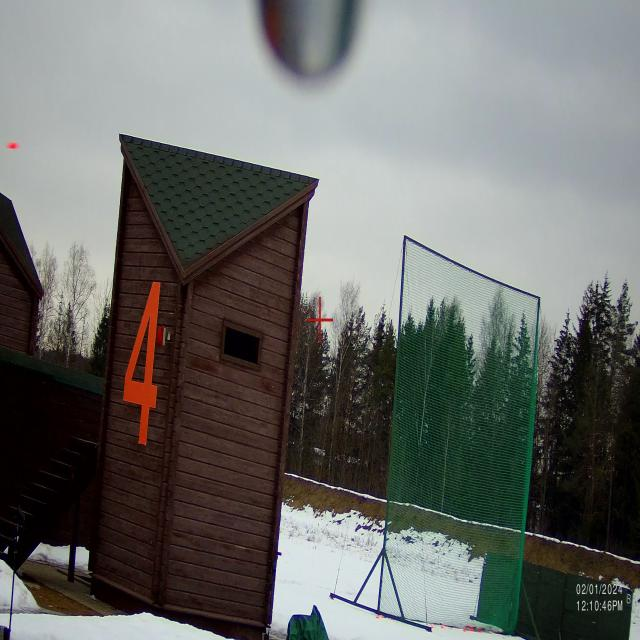entire: (4, 123, 27, 161)
